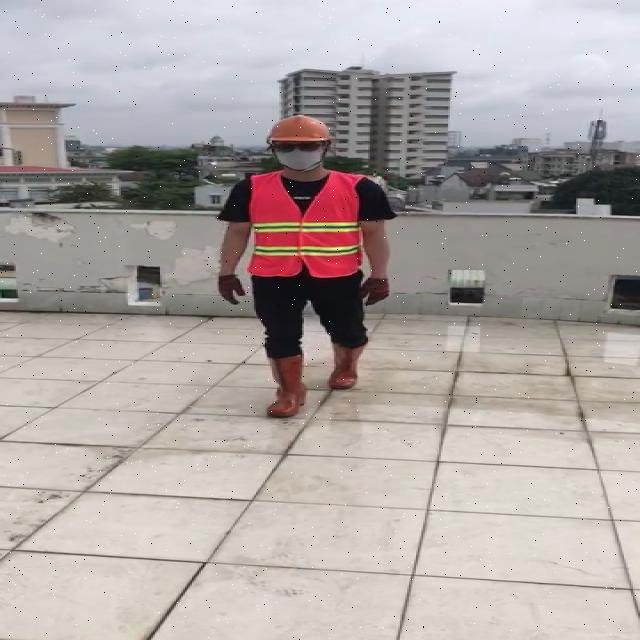Hard_hat: (260, 113, 336, 153)
Person: (213, 117, 400, 428)
Vest: (246, 166, 363, 279)
